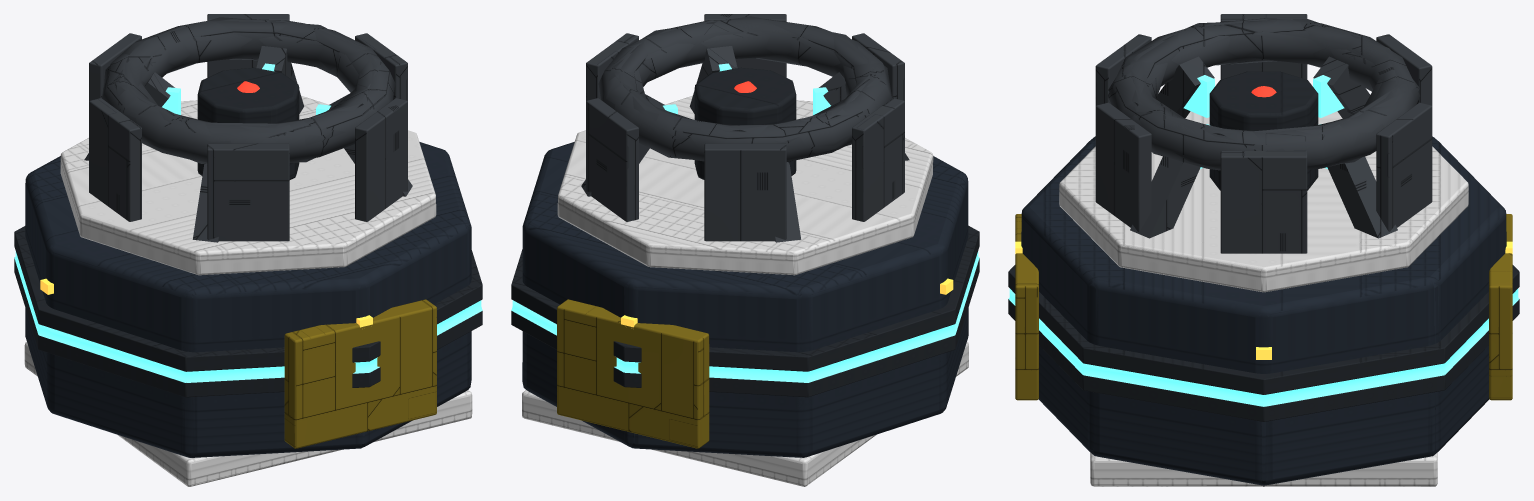
File: place_interdiction_buoy.glb
3 views of the same model, side by side, from view 1: azimuth 30°, elevation 25°; view 2: azimuth 150°, elevation 25°; view 3: azimuth 270°, elevation 25° (orthographic). The views are drawn at different scales.
Visible parts, largest first — view 1: LOD0_Mechanical_navy, LOD0_MechanicalDark, LOD1_Mechanical_navy, LOD0_Warning, LOD0_Mechanical, LOD0_MOTION_SNARE_CORE_Armor, LOD0_MOTION_SNARE_PETAL_4_Armor, LOD1_MOTION_SNARE_CORE_Armor, LOD2_MOTION_SNARE_CORE_Armor, LOD0_MOTION_SNARE_PETAL_3_Armor, LOD0_MOTION_SNARE_PETAL_5_Armor, LOD0_MOTION_SNARE_CORE_Mechanical (+12 smaller); view 2: LOD0_Mechanical_navy, LOD0_MechanicalDark, LOD0_Warning, LOD0_Mechanical, LOD1_Mechanical_navy, LOD0_MOTION_SNARE_CORE_Armor, LOD0_MOTION_SNARE_PETAL_2_Armor, LOD1_MOTION_SNARE_CORE_Armor, LOD2_MOTION_SNARE_CORE_Armor, LOD0_MOTION_SNARE_PETAL_3_Armor, LOD0_MOTION_SNARE_PETAL_1_Armor, LOD0_MOTION_SNARE_CORE_Mechanical (+12 smaller); view 3: LOD0_Mechanical_navy, LOD0_MechanicalDark, LOD1_Mechanical_navy, LOD0_Mechanical, LOD0_MOTION_SNARE_CORE_Armor, LOD0_MOTION_SNARE_PETAL_0_Armor, LOD1_MOTION_SNARE_CORE_Armor, LOD0_Armor, LOD0_Warning, LOD2_MOTION_SNARE_CORE_Armor, LOD0_MOTION_SNARE_CORE_Mechanical, LOD0_MOTION_SNARE_PETAL_5_Armor (+12 smaller).
Boxes of the visible parts, box(x1,y1,x2,y2) form: LOD0_Mechanical_navy: box(25, 142, 471, 457); LOD0_MechanicalDark: box(25, 95, 471, 486); LOD1_Mechanical_navy: box(25, 150, 471, 457); LOD0_Warning: box(284, 299, 436, 448); LOD0_Mechanical: box(14, 226, 482, 397); LOD0_MOTION_SNARE_CORE_Armor: box(102, 19, 395, 161); LOD0_MOTION_SNARE_PETAL_4_Armor: box(207, 143, 289, 241); LOD1_MOTION_SNARE_CORE_Armor: box(102, 20, 395, 162); LOD2_MOTION_SNARE_CORE_Armor: box(104, 17, 394, 163); LOD0_MOTION_SNARE_PETAL_3_Armor: box(89, 98, 141, 221); LOD0_MOTION_SNARE_PETAL_5_Armor: box(355, 98, 407, 221); LOD0_MOTION_SNARE_CORE_Mechanical: box(197, 67, 299, 179); LOD0_Mechanical_navy: box(522, 142, 968, 457); LOD0_MechanicalDark: box(522, 95, 968, 486); LOD0_Warning: box(557, 299, 709, 448); LOD0_Mechanical: box(511, 226, 979, 397); LOD1_Mechanical_navy: box(522, 142, 968, 457); LOD0_MOTION_SNARE_CORE_Armor: box(598, 19, 891, 161); LOD0_MOTION_SNARE_PETAL_2_Armor: box(704, 143, 786, 241); LOD1_MOTION_SNARE_CORE_Armor: box(604, 19, 890, 161); LOD2_MOTION_SNARE_CORE_Armor: box(598, 16, 889, 159); LOD0_MOTION_SNARE_PETAL_3_Armor: box(852, 98, 904, 221); LOD0_MOTION_SNARE_PETAL_1_Armor: box(586, 98, 638, 221); LOD0_MOTION_SNARE_CORE_Mechanical: box(694, 67, 796, 179); LOD0_Mechanical_navy: box(1021, 137, 1506, 484); LOD0_MechanicalDark: box(1059, 111, 1468, 486); LOD1_Mechanical_navy: box(1021, 137, 1506, 484); LOD0_Mechanical: box(1008, 265, 1519, 421); LOD0_MOTION_SNARE_CORE_Armor: box(1108, 18, 1419, 169); LOD0_MOTION_SNARE_PETAL_0_Armor: box(1220, 151, 1307, 253); LOD1_MOTION_SNARE_CORE_Armor: box(1108, 18, 1419, 170); LOD0_Armor: box(1130, 56, 1397, 238); LOD0_Warning: box(1015, 214, 1512, 400); LOD2_MOTION_SNARE_CORE_Armor: box(1108, 19, 1419, 168); LOD0_MOTION_SNARE_CORE_Mechanical: box(1209, 71, 1318, 189); LOD0_MOTION_SNARE_PETAL_5_Armor: box(1095, 102, 1151, 231).
Size of what is drawn, in the model's own units: 6.48 by 5.03 by 6.48.
Materials: 8 (5 with a texture image).
